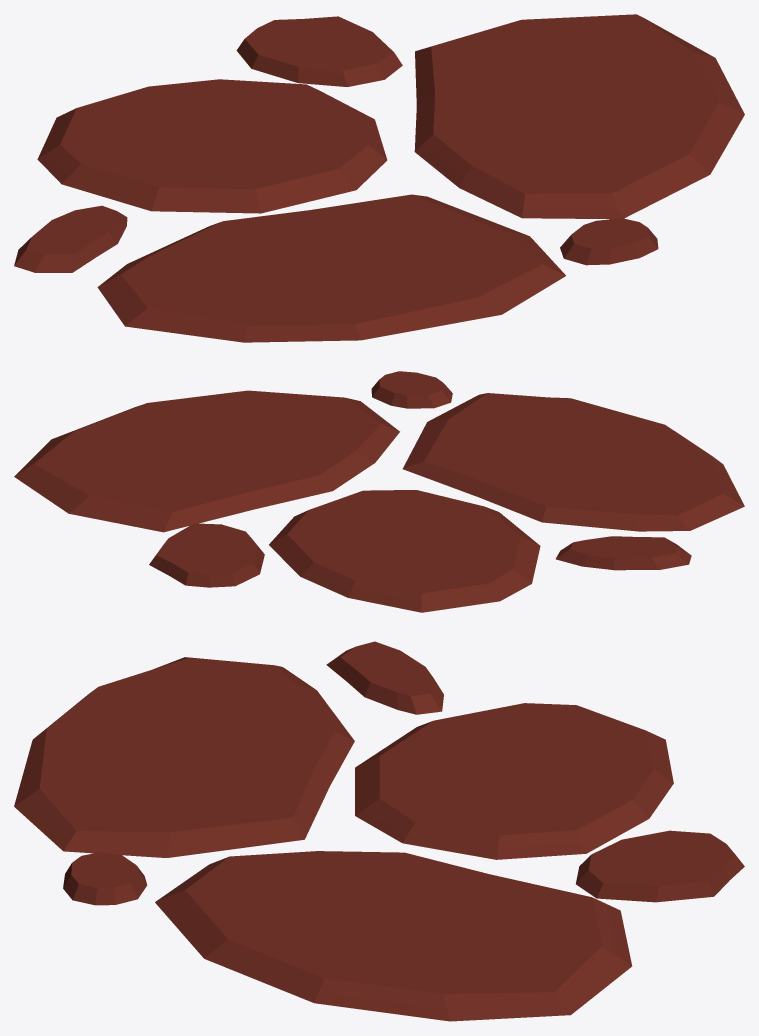
The model's file is Puddle_A.fbx.
3 renders of one model, top to bottom at view 1: azimuth 30°, elevation 25°; view 2: azimuth 150°, elevation 25°; view 3: azimuth 270°, elevation 25°, orthographic. The views are drawn at different scales.
Parts seen in each view (by area): view 1: Puddle_A; view 2: Puddle_A; view 3: Puddle_A.
Boxes of the visible parts, box(x1,y1,x2,y2) form: Puddle_A: box(14, 14, 744, 342); Puddle_A: box(14, 371, 744, 612); Puddle_A: box(14, 641, 744, 1021).
Size of the model in its own units: 86 by 1.56 by 70.79.
